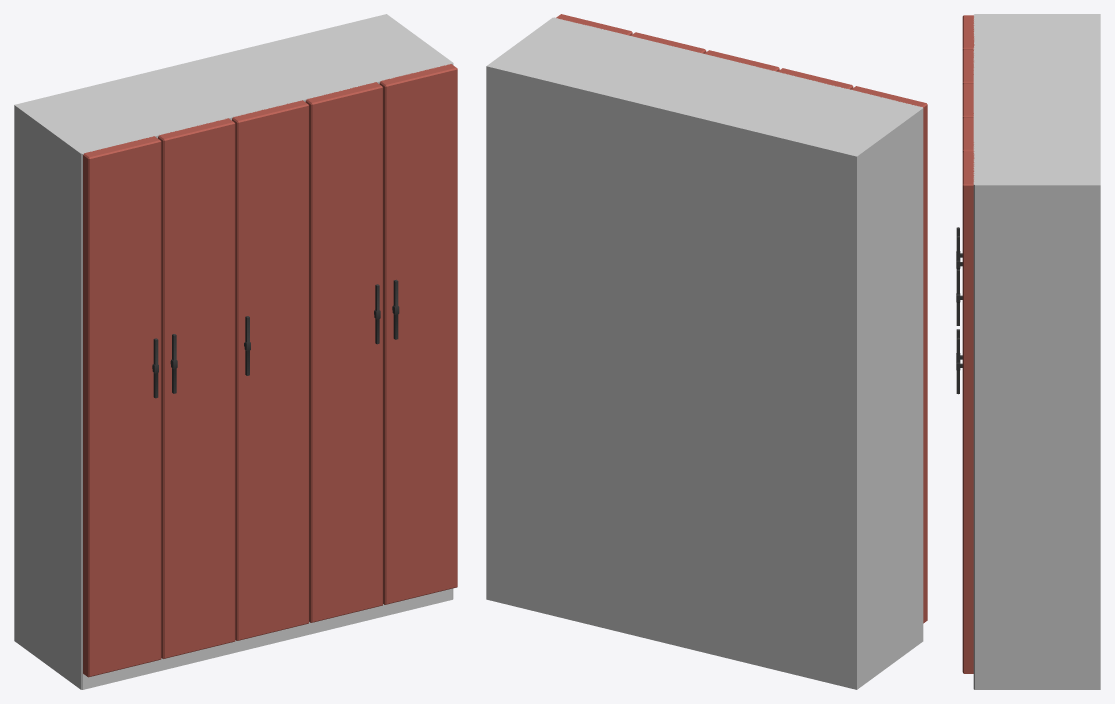
The picture shows the model from 3 angles, left to right: view 1: azimuth 30°, elevation 25°; view 2: azimuth 150°, elevation 25°; view 3: azimuth 270°, elevation 25°; orthographic projection. The views are drawn at different scales.
Parts seen in each view (by area): view 1: YG135656; view 2: YG135656; view 3: YG135656.
Boxes of the visible parts, left/top/right/bottom form: YG135656: left=14, top=14, right=457, bottom=689; YG135656: left=486, top=14, right=927, bottom=689; YG135656: left=956, top=14, right=1100, bottom=689.
Size of the model in its own units: 160 by 57 by 220.
